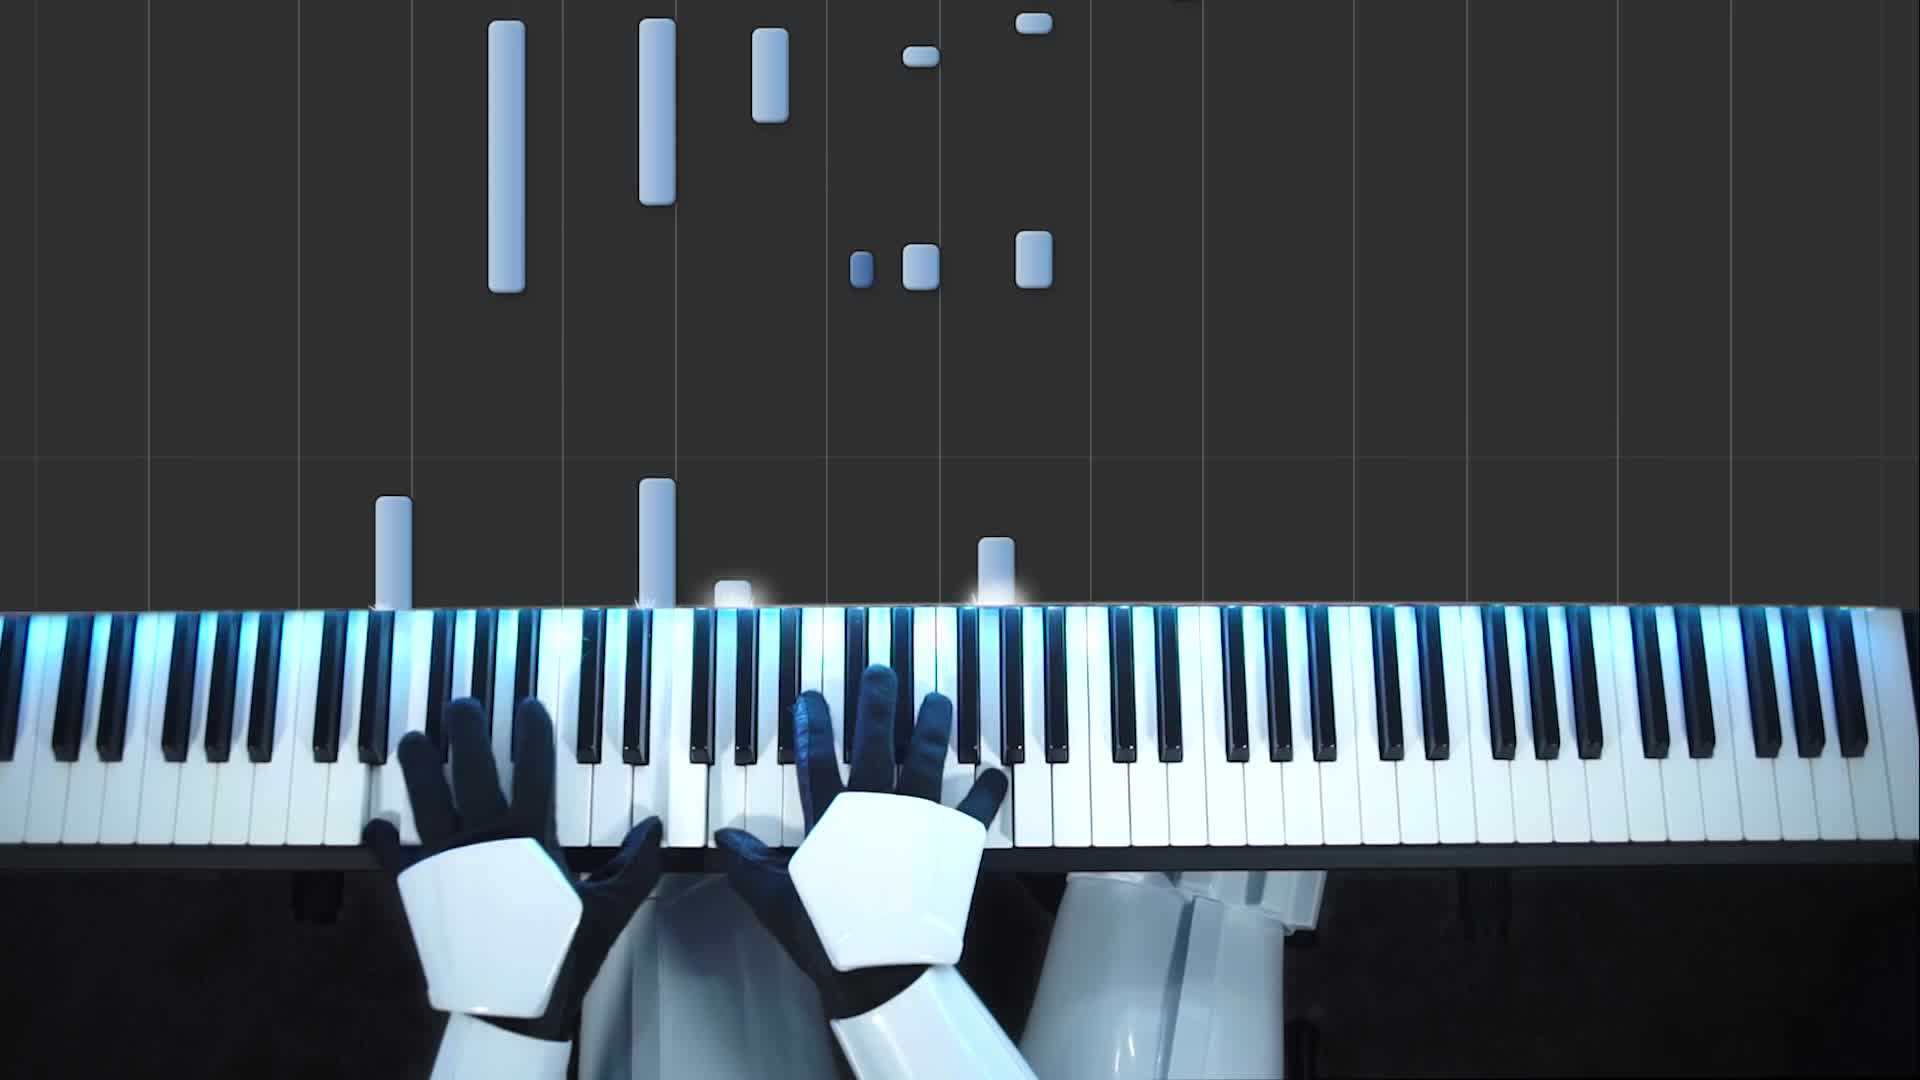left: (367, 694, 665, 1026)
right: (715, 662, 1013, 1018)
